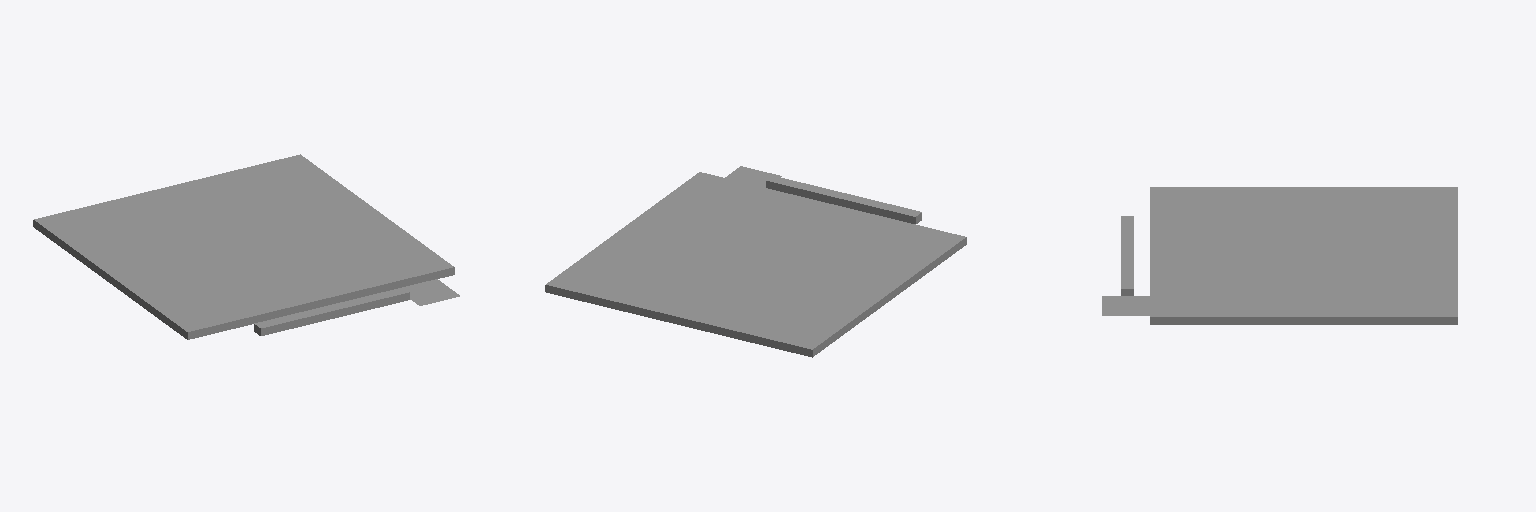
The model's file is flat1.obj.
3 renders of one model, left to right at view 1: azimuth 30°, elevation 25°; view 2: azimuth 150°, elevation 25°; view 3: azimuth 270°, elevation 25°, orthographic.
Parts seen in each view (by area): view 1: 0FRONT_Plane.002, Cube.001_Cube.005, 0BASE_ICON_Cylinder.000; view 2: 0FRONT_Plane.002, Cube.001_Cube.005, 0BASE_ICON_Cylinder.000; view 3: 0FRONT_Plane.002, 0BASE_ICON_Cylinder.000, Cube.001_Cube.005.
Part boxes in pixels (x1,y1,x2,y2): 0FRONT_Plane.002: (33,154,454,339); Cube.001_Cube.005: (263,289,401,333); 0BASE_ICON_Cylinder.000: (404,279,459,305); 0FRONT_Plane.002: (545,172,966,357); Cube.001_Cube.005: (774,178,913,222); 0BASE_ICON_Cylinder.000: (725,166,781,187); 0FRONT_Plane.002: (1150,187,1457,324); 0BASE_ICON_Cylinder.000: (1102,296,1149,315); Cube.001_Cube.005: (1121,219,1133,284).
Bounding box in the file's own units: 3.58 × 0.1 × 4.13.